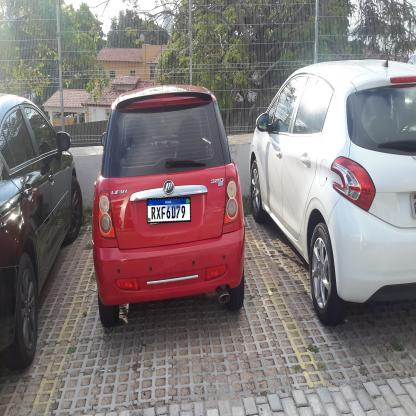PlacaM: (147, 197, 191, 223)
